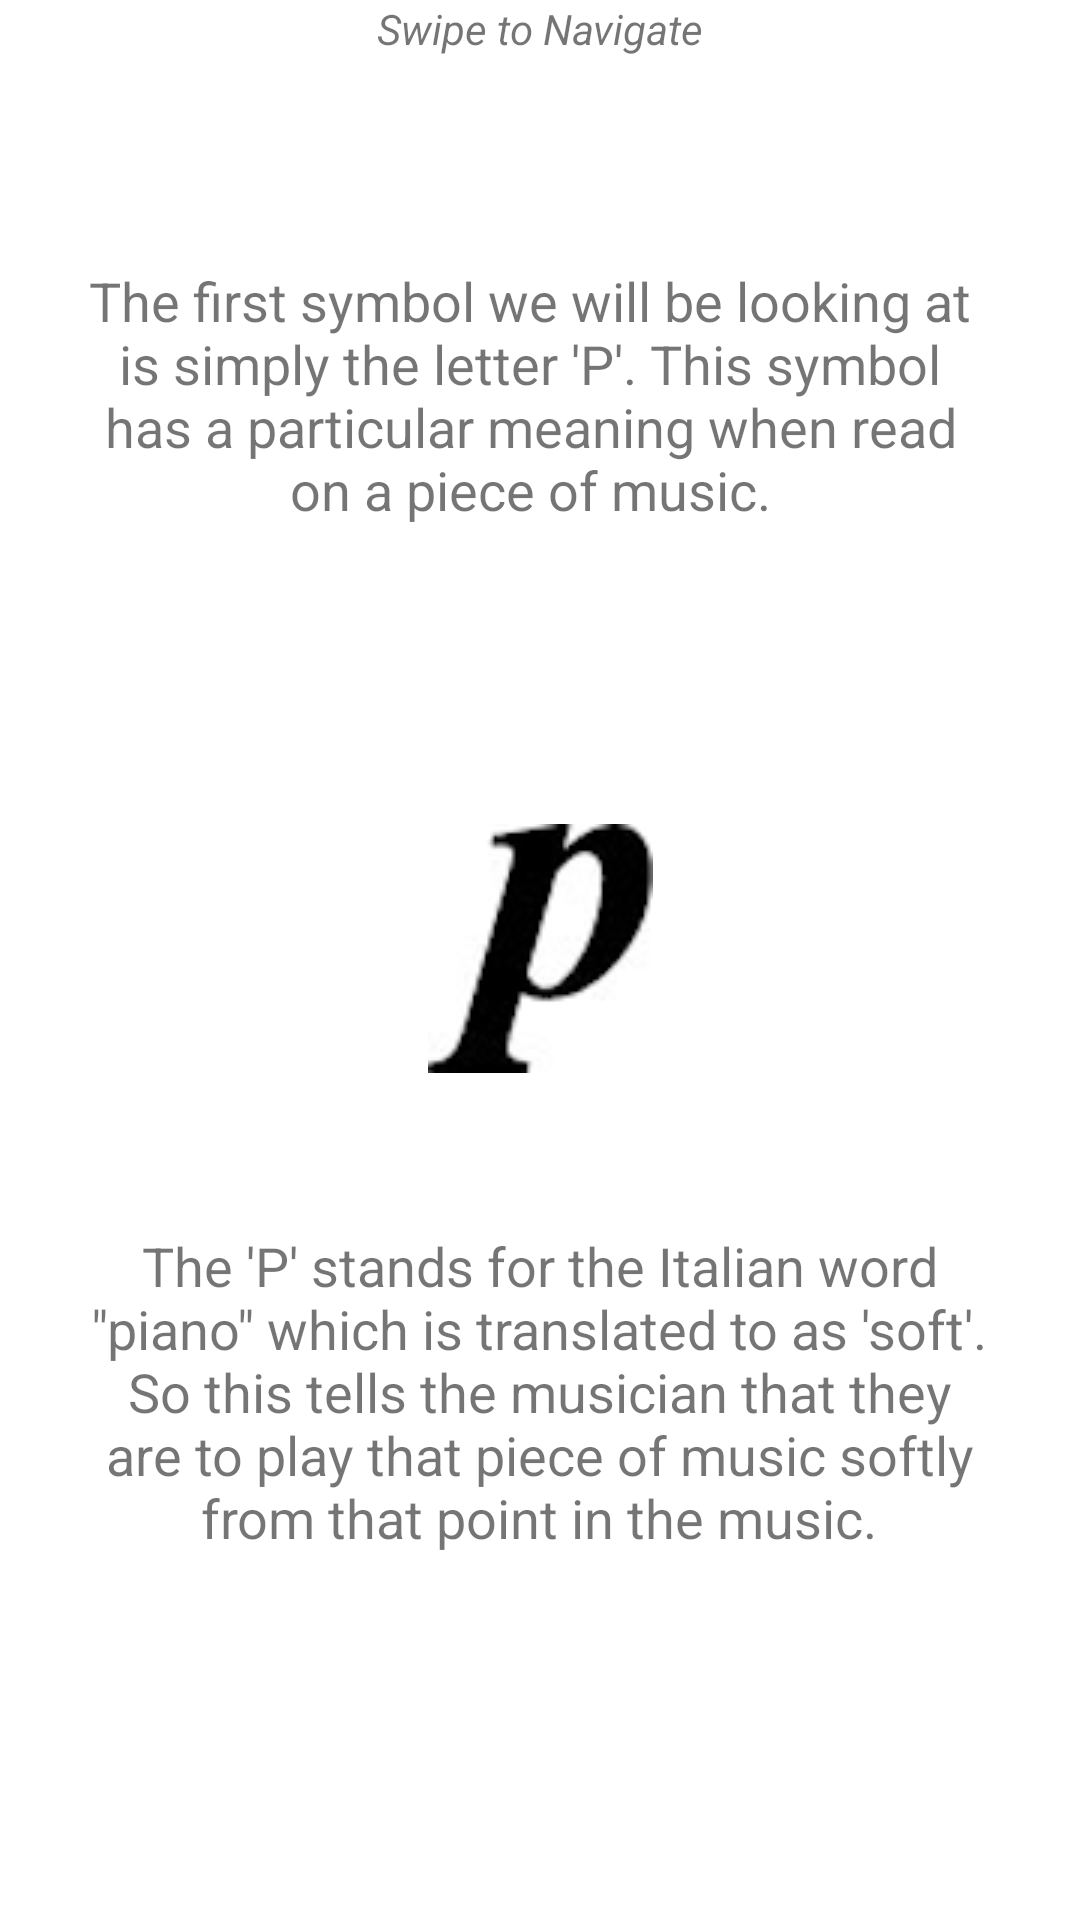

Where icons sit on this 1080 x 1920 app screen, as (x1, y1, x2, y2):
piano dynamic marking: (428, 824, 653, 1073)
